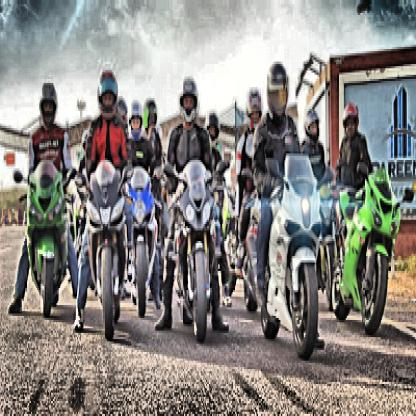wear: (267, 61, 288, 124), (98, 69, 119, 118), (206, 108, 226, 150), (181, 77, 198, 126), (41, 80, 55, 129), (141, 97, 157, 137), (305, 108, 321, 143), (247, 92, 263, 126), (344, 105, 360, 137), (129, 102, 142, 138), (116, 99, 128, 130)
